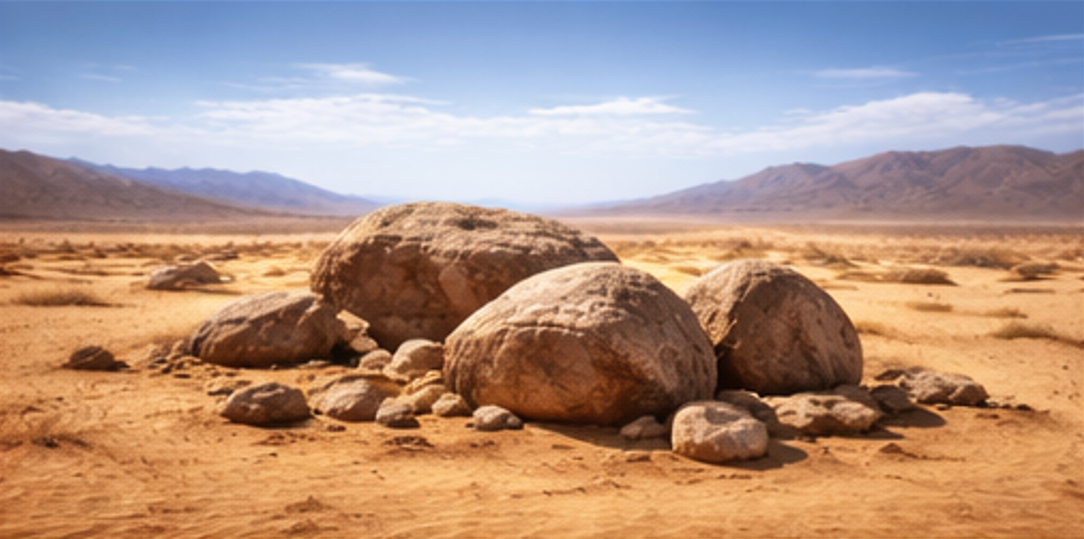rocks: (310, 202, 616, 347), (443, 262, 713, 423), (685, 259, 860, 393), (188, 291, 342, 366), (670, 400, 768, 461), (766, 385, 881, 433), (310, 374, 398, 421), (876, 368, 988, 404), (219, 382, 309, 425), (382, 338, 442, 382), (146, 260, 220, 289), (62, 344, 126, 370), (471, 404, 522, 431)
